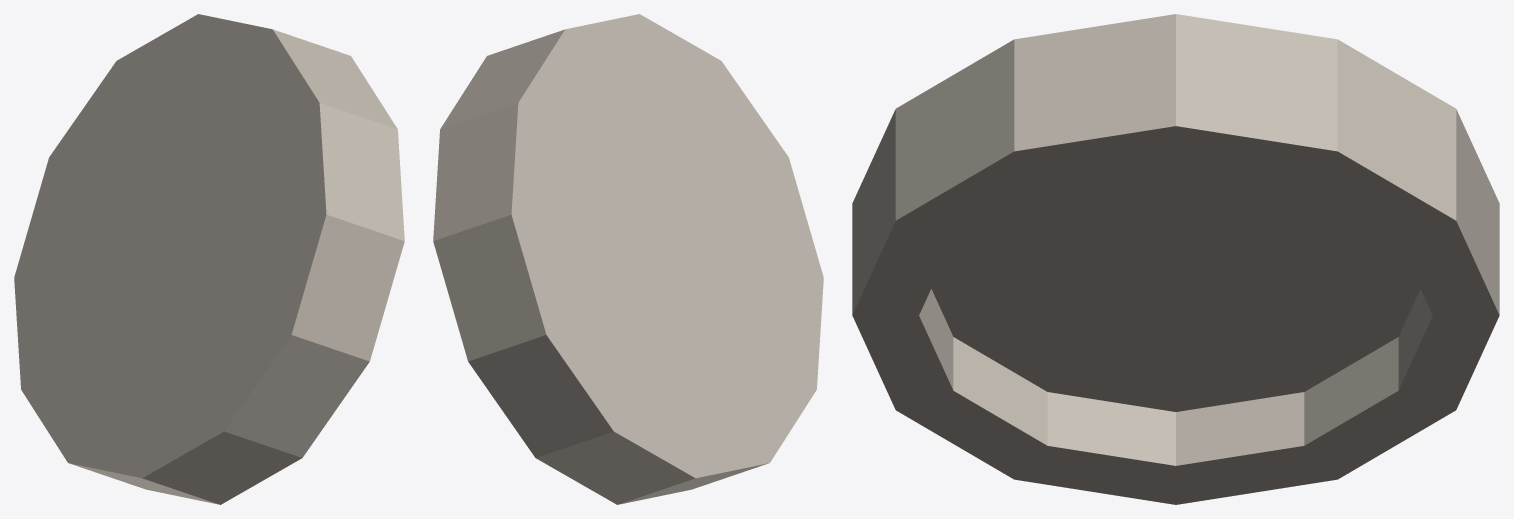
The model's file is outlet_main_l_1.glb.
The picture shows the model from 3 angles, left to right: view 1: azimuth 30°, elevation 25°; view 2: azimuth 150°, elevation 25°; view 3: azimuth 270°, elevation 25°; orthographic projection. The views are drawn at different scales.
Parts seen in each view (by area): view 1: Cylinder.081; view 2: Cylinder.081; view 3: Cylinder.081.
Part boxes in pixels (<box>): Cylinder.081: <box>14,14,404,504</box>; Cylinder.081: <box>433,14,823,504</box>; Cylinder.081: <box>852,14,1499,504</box>.
Size of the model in its own units: 0.1259 by 0.1825 by 0.1867.
1 material, 1 textured.
